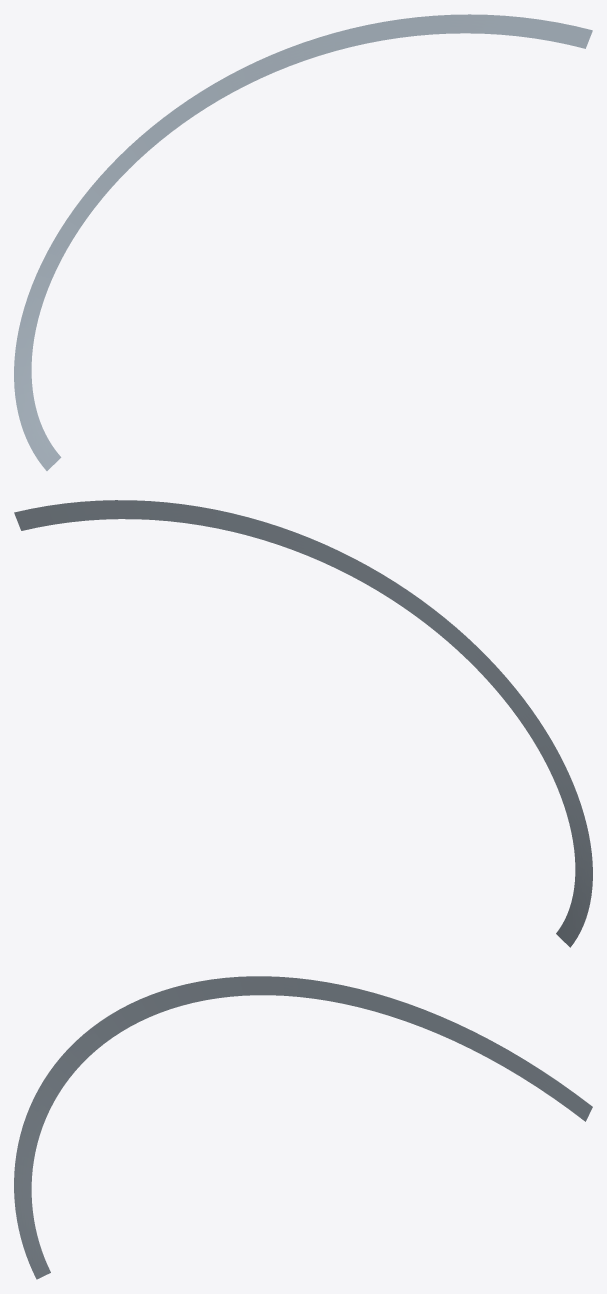
Rendered from Sucrose_AstableAnemohypostasisCreation_ThreeTargets_GatheringWind_35_1.fbx.
The picture shows the model from 3 angles, top to bottom: view 1: azimuth 30°, elevation 25°; view 2: azimuth 150°, elevation 25°; view 3: azimuth 330°, elevation 25°; orthographic projection.
Visible parts, largest first — view 1: PART_GatheringWind_35_1; view 2: PART_GatheringWind_35_1; view 3: PART_GatheringWind_35_1.
Boxes of the visible parts, x1,y1,x2,y2 form: PART_GatheringWind_35_1: (14, 14, 592, 470); PART_GatheringWind_35_1: (14, 500, 592, 947); PART_GatheringWind_35_1: (14, 976, 592, 1279).
Size of the model in its own units: 282 by 168 by 8.73.
